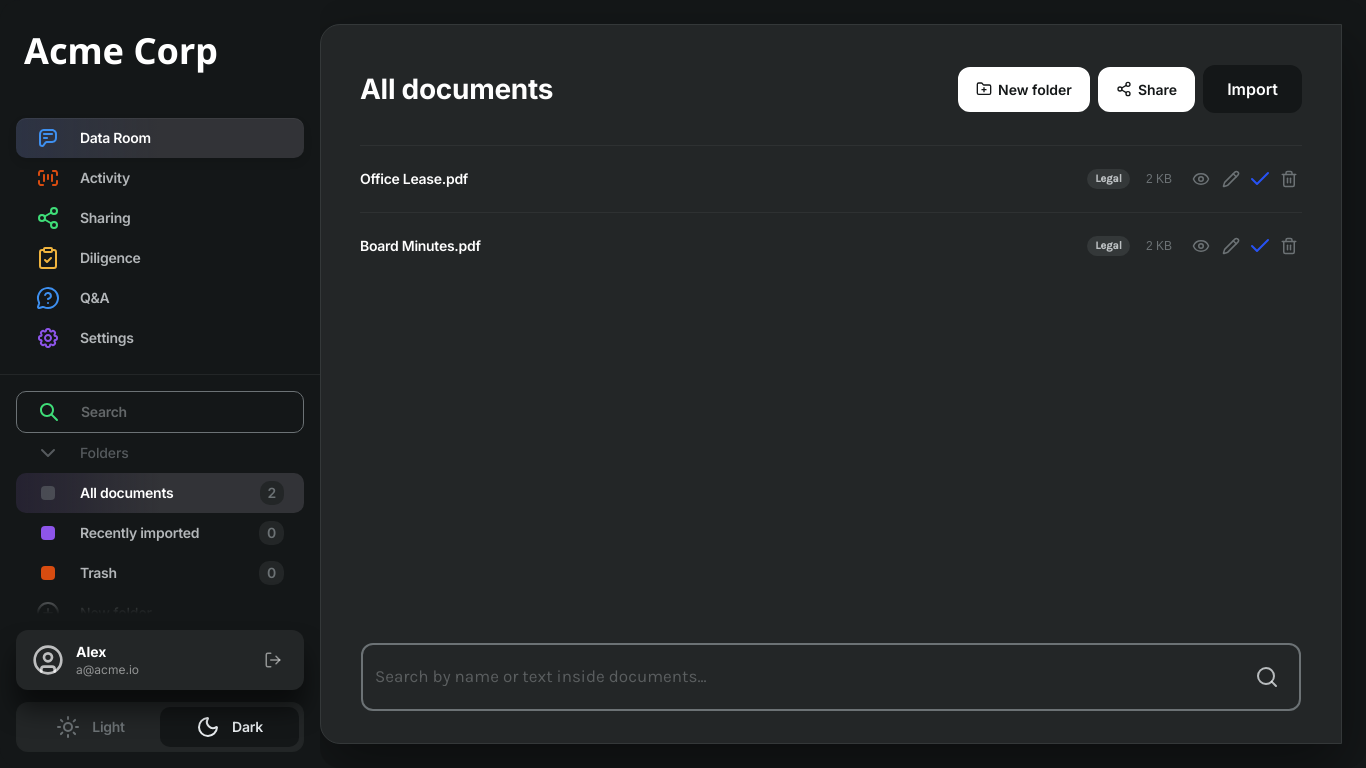
it: Layout › finds documents by text inside them, not only by name
Expected: the text "Office Lease.pdf" is shown, [360, 170, 468, 187]
Type "renewal" into the field with placeholder "Search by name or text inside documents..." at (805, 677), box [375, 664, 1235, 690]
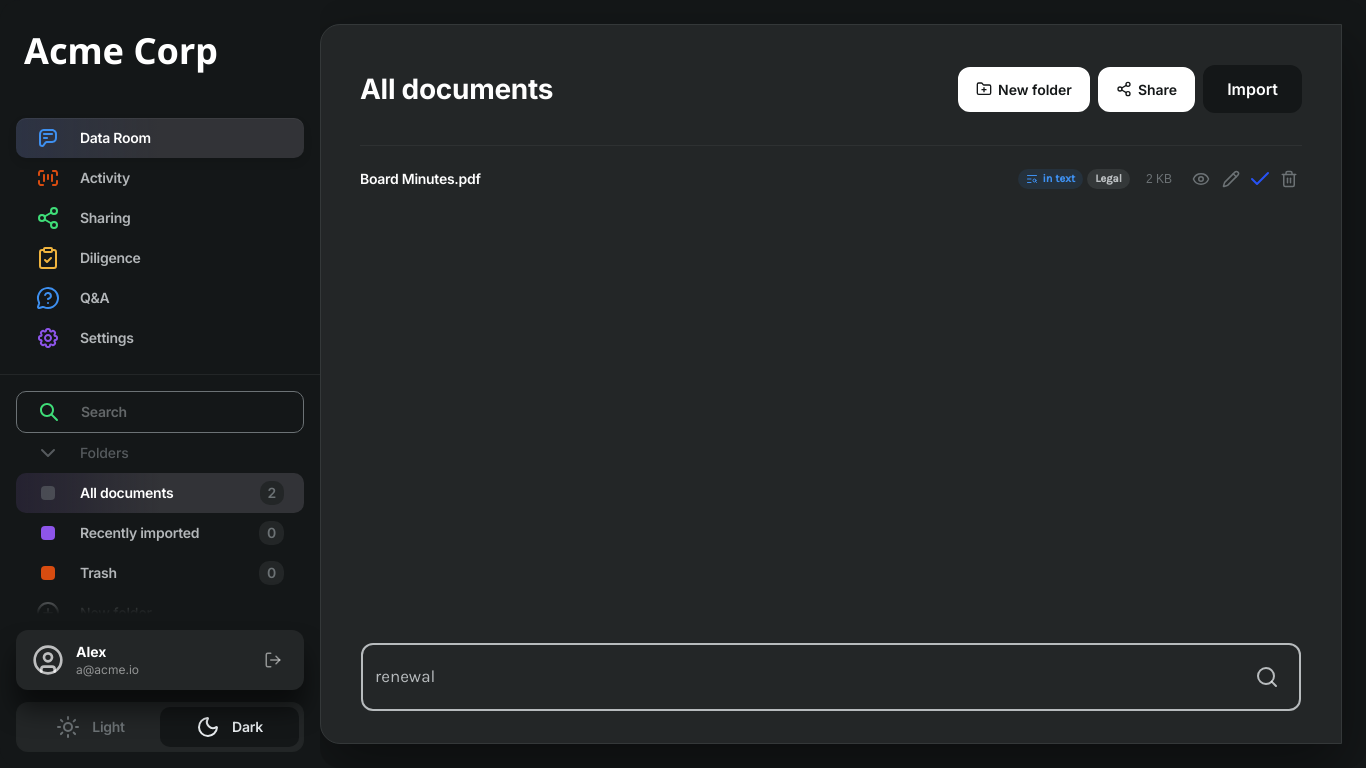
Result: the text "Office Lease.pdf" is gone
Result: the text "in text" is shown at [1018, 169, 1083, 189]
